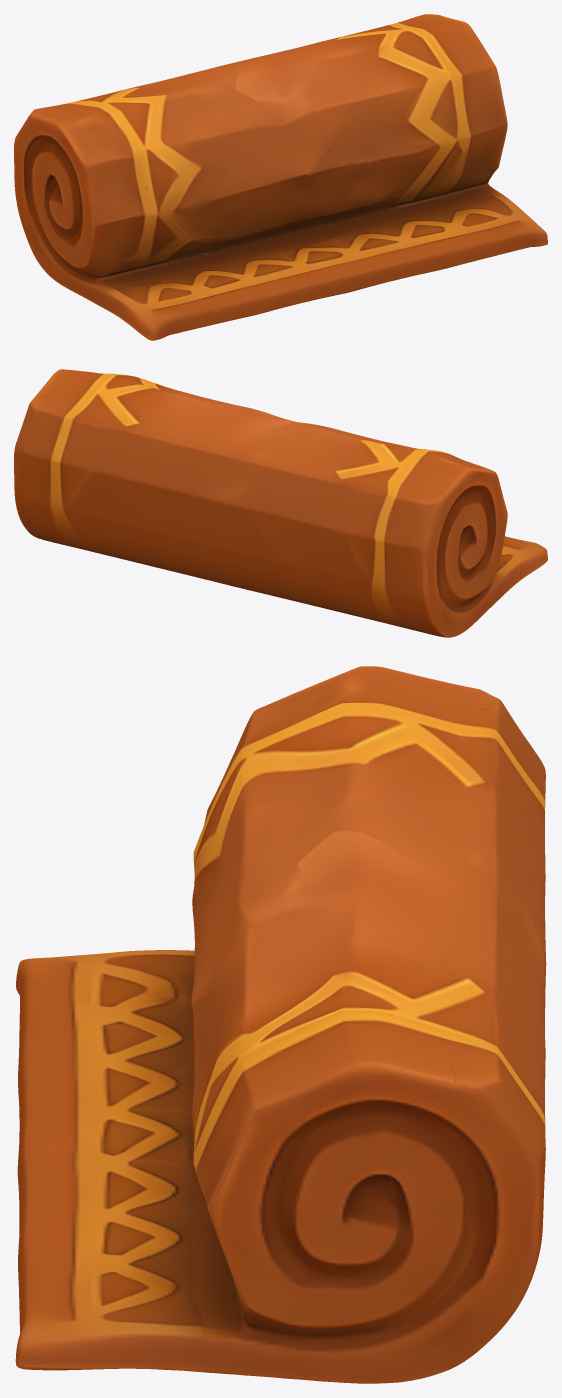
The model's file is base_basic_shaded.fbx.
3 renders of one model, top to bottom at view 1: azimuth 30°, elevation 25°; view 2: azimuth 150°, elevation 25°; view 3: azimuth 270°, elevation 25°, orthographic. The views are drawn at different scales.
Parts seen in each view (by area): view 1: model; view 2: model; view 3: model.
Part boxes in pixels (<box>): model: <box>14,14,547,340</box>; model: <box>14,369,547,637</box>; model: <box>15,666,546,1383</box>.
Size of the model in its own units: 189 by 71.7 by 105.
